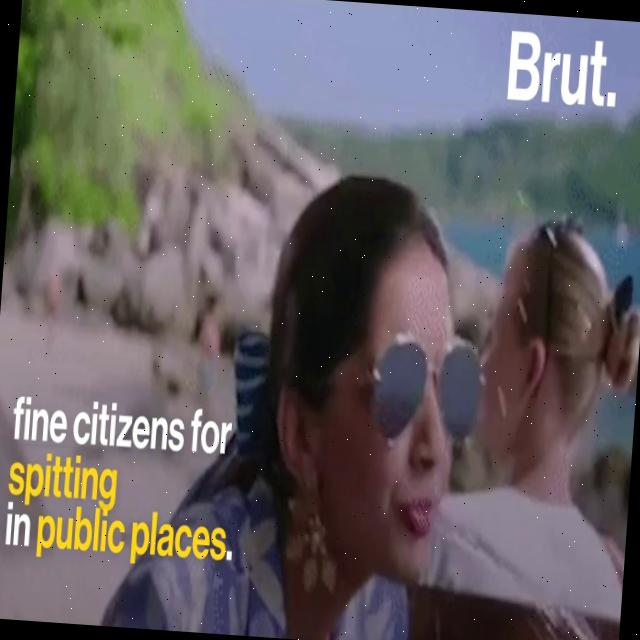spit: (301, 175, 607, 640)
